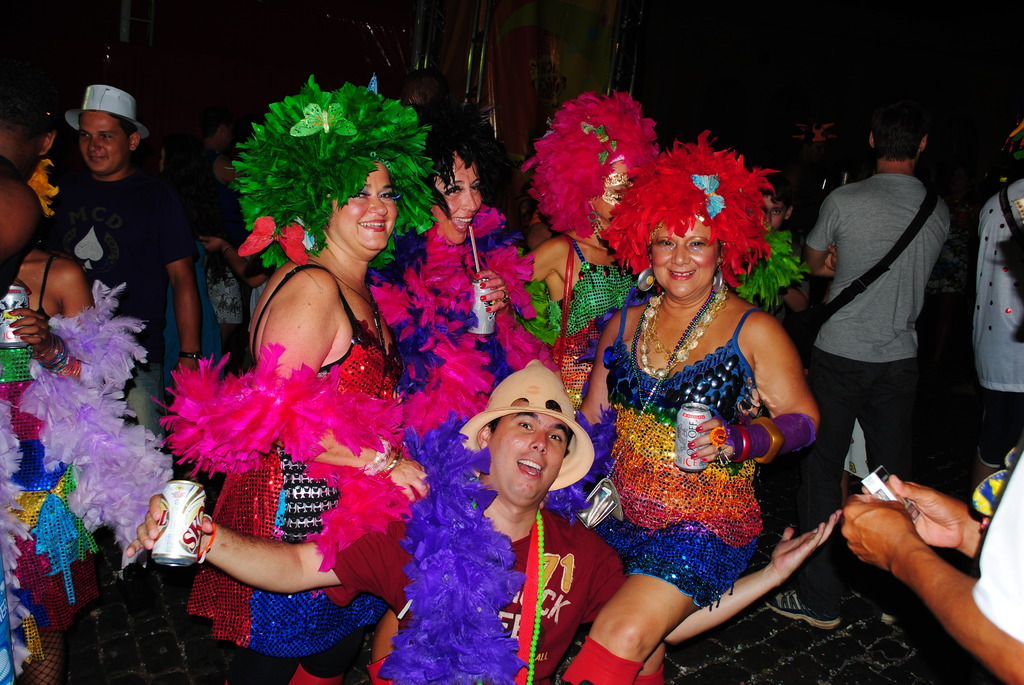Person: (0, 53, 1023, 685)
